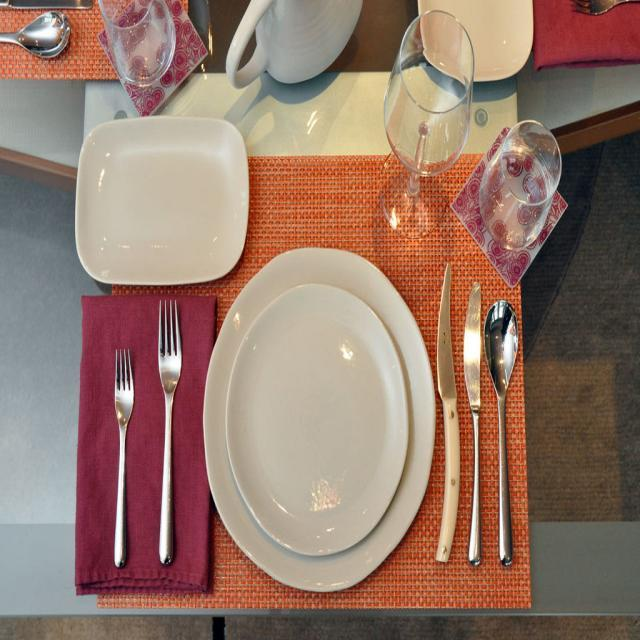ceramic plate: (206, 217, 438, 602), (76, 98, 246, 302)
